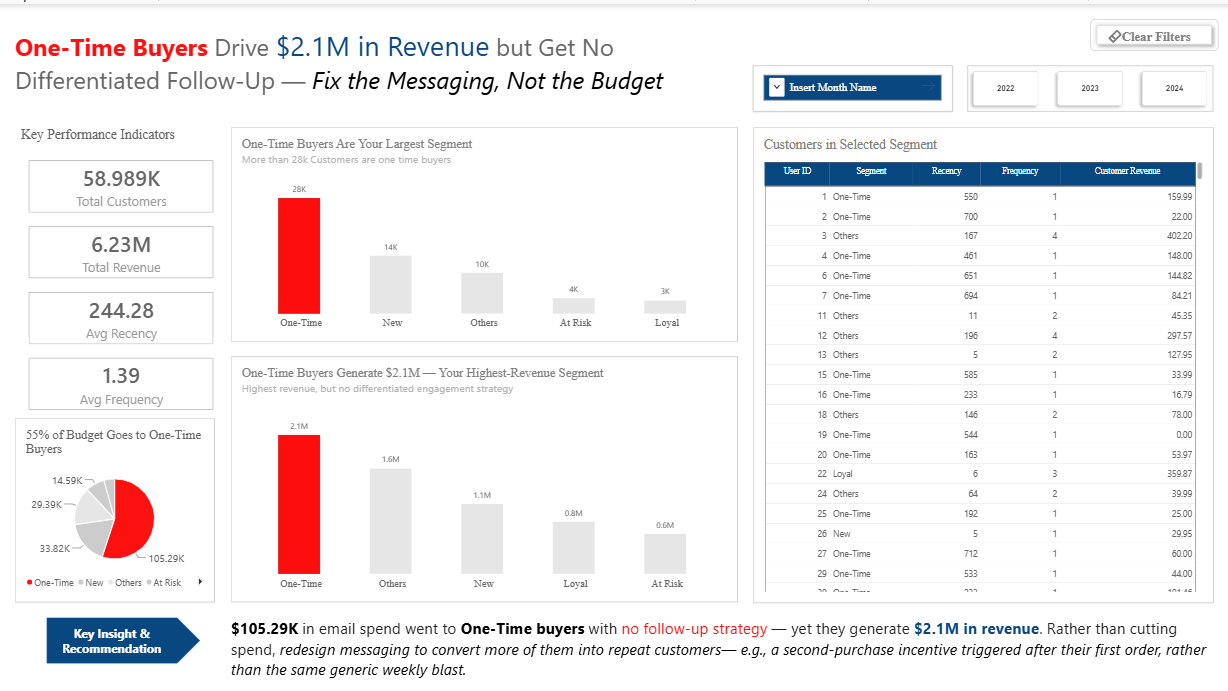

This screenshot's page, from the dashboard's own definition file:
{"tool":"powerbi","page":{"name":"Customer Segmentation View","canvas":[1920,1080],"ordinal":0},"visuals":[{"type":"tableEx","title":"Customers in Selected Segment","fields":{"Values":["gold_cust_segmentation.user_id","cust_segments.segments","Sum(gold_cust_segmentation.recency)","Sum(gold_cust_segmentation.frequency)","Sum(gold_cust_segmentation.monetary)"]},"box":[1176,192,720,744],"z":0},{"type":"columnChart","title":"One-Time Buyers Generate $2.1M — Your Highest-Revenue Segment","fields":{"Category":["cust_segments.segments"],"Y":["Sum(vw_SegmentSpendVsRevenue1.segment_revenue)"]},"box":[360,552,792,384],"z":1000},{"type":"clusteredColumnChart","title":"One-Time Buyers Are Your Largest Segment","fields":{"Category":["cust_segments.segments"],"Y":["CountNonNull(gold_cust_segmentation.user_id)"]},"box":[360,192,792,336],"z":2000},{"type":"textbox","box":[24,24,1128,144],"z":3000},{"type":"advancedSlicerVisual","fields":{"Values":["vw_SegmentSpendVsRevenue1.year"]},"box":[1512,96,384,72],"z":4000},{"type":"cardVisual","title":"Key Performance Indicators","fields":{"Data":["Measures_Table.Total Customers","Measures_Table.Total Revenue","Measures_Table.Avg Recency","Measures_Table.Avg Frequency"]},"box":[32,192,312,456],"z":5000},{"type":"textSlicer","title":"Select A Month","fields":{"Values":["CalendarTable.month_name"]},"box":[1176,96,312,72],"z":6000},{"type":"actionButton","box":[1704,24,200,50],"z":7000},{"type":"pieChart","title":"55% of Budget Goes to One-Time Buyers","fields":{"Category":["cust_segments.segments"],"Y":["Sum(vw_SegmentSpendVsRevenue1.segment_spend)"]},"box":[24,648,312,288],"z":8000},{"type":"shape","box":[72,960,240,72],"z":9000},{"type":"textbox","box":[360,960,1536,96],"z":10000}]}

Visuals, with their boxes in screenshot pixels (x1, y1, x2, y2), scaled from the page's 1920x1080 canvas onto the 1228x691 screenshot:
"Customers in Selected Segment" tableEx: locate(752, 123, 1213, 599)
"One-Time Buyers Generate $2.1M — Your Highest-Revenue Segment" columnChart: locate(230, 353, 737, 599)
"One-Time Buyers Are Your Largest Segment" clusteredColumnChart: locate(230, 123, 737, 338)
textbox: locate(15, 15, 737, 107)
advancedSlicerVisual - vw_SegmentSpendVsRevenue1.year: locate(967, 61, 1213, 107)
"Key Performance Indicators" cardVisual: locate(20, 123, 220, 415)
"Select A Month" textSlicer: locate(752, 61, 952, 107)
actionButton: locate(1090, 15, 1218, 47)
"55% of Budget Goes to One-Time Buyers" pieChart: locate(15, 415, 215, 599)
shape: locate(46, 614, 200, 660)
textbox: locate(230, 614, 1213, 676)
